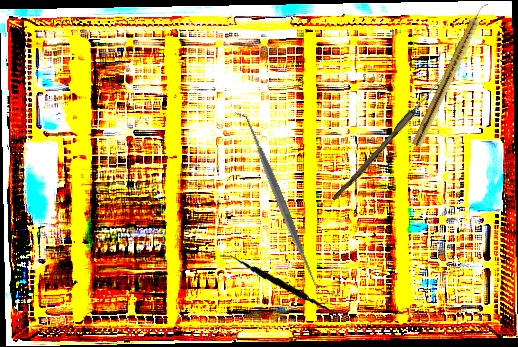Handpiece: (411, 0, 491, 149)
Spatula Surgical: (232, 104, 327, 295), (220, 243, 346, 324)
Surgical Spoon: (331, 76, 445, 204)
